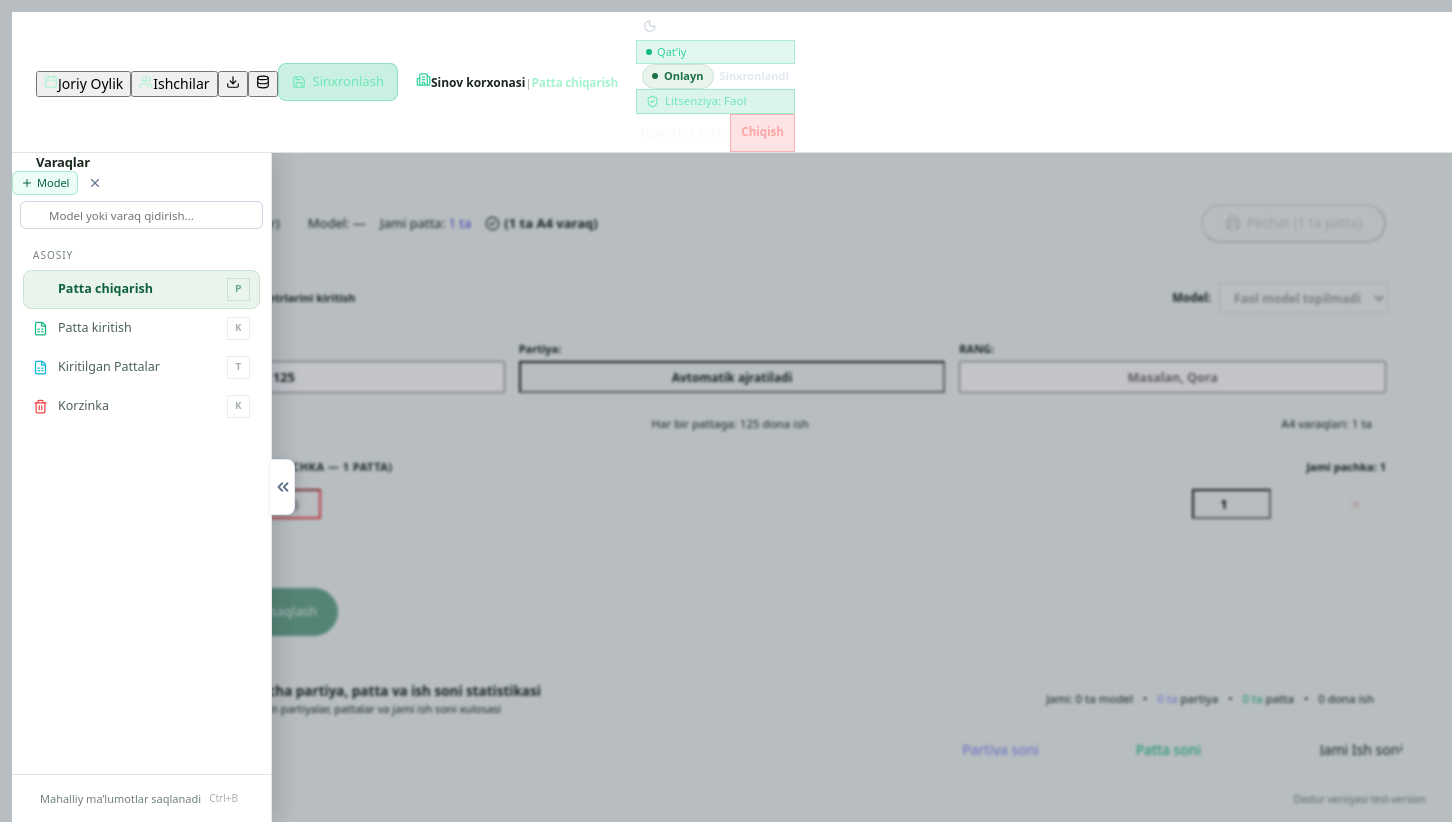
permission-aware navigation › changes the active page using the current navigation
The width and height of the screenshot is (1452, 822).
Click the button "Kiritilgan Pattalar T": {"x": 142, "y": 367} [23,348,260,387]
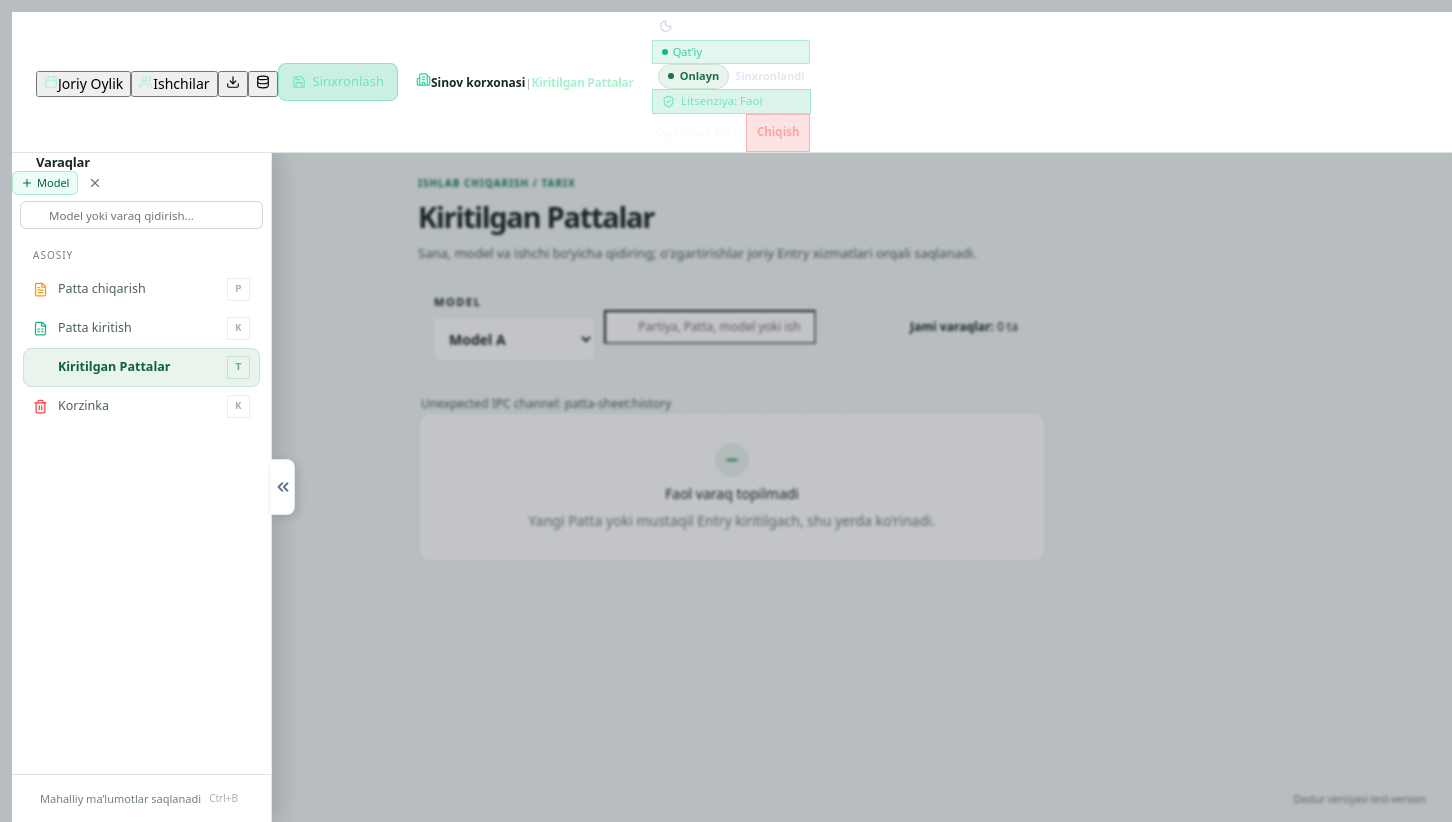
Expected: the heading "Kiritilgan Pattalar" is shown, [418,197,654,236]
